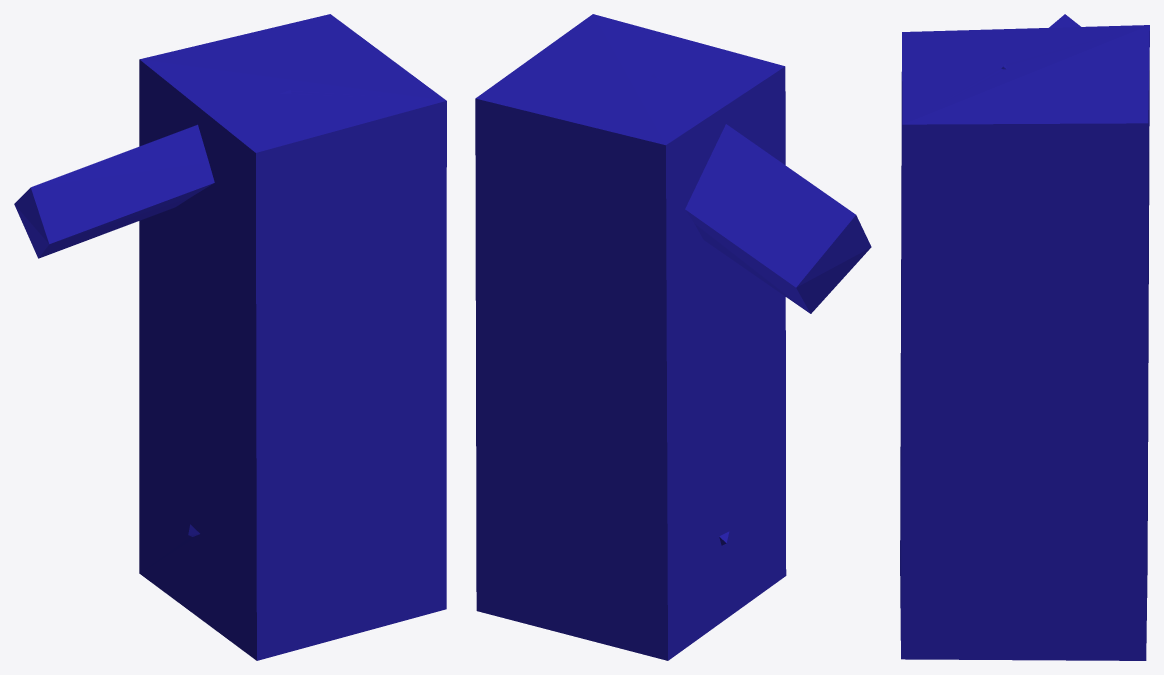
3 views of the same model, side by side, from view 1: azimuth 30°, elevation 25°; view 2: azimuth 150°, elevation 25°; view 3: azimuth 270°, elevation 25° (orthographic). The views are drawn at different scales.
Parts seen in each view (by area): view 1: 334_Cube.1366; view 2: 334_Cube.1366; view 3: 334_Cube.1366.
Part boxes in pixels (box(x1,y1,x2,y2)): 334_Cube.1366: box(14, 14, 446, 660); 334_Cube.1366: box(475, 14, 871, 660); 334_Cube.1366: box(900, 14, 1149, 660).
Bounding box in the file's own units: 8.41 × 12.2 × 5.09.
